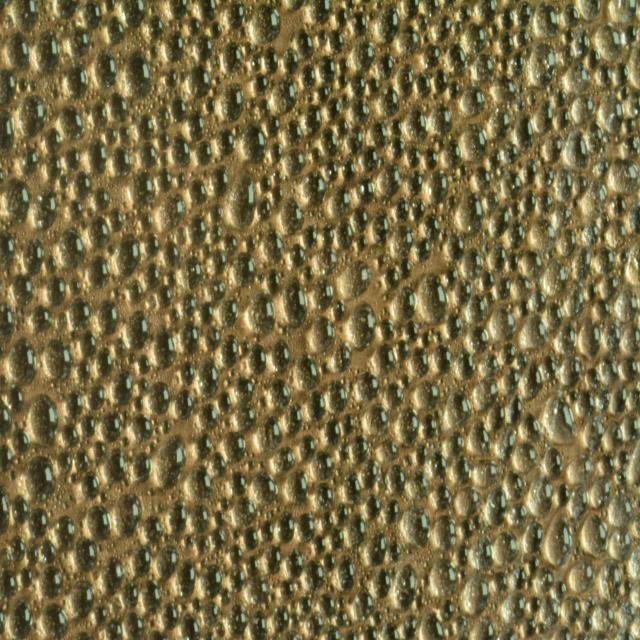dr: (542, 394, 578, 444), (27, 393, 59, 449), (227, 171, 257, 230), (154, 436, 187, 489), (6, 335, 38, 389), (417, 270, 447, 324), (33, 24, 62, 78), (42, 336, 73, 385), (26, 454, 56, 504), (401, 502, 432, 550), (124, 49, 154, 98), (17, 94, 48, 140), (454, 188, 484, 235), (337, 260, 372, 300), (113, 493, 142, 541), (246, 291, 276, 337), (428, 557, 459, 601), (546, 516, 572, 568), (282, 278, 309, 328), (607, 156, 639, 198), (580, 512, 608, 560), (57, 228, 88, 271), (4, 178, 32, 225), (349, 302, 375, 352), (457, 124, 489, 164), (530, 44, 558, 89), (156, 192, 187, 232), (31, 188, 59, 232), (250, 5, 281, 44), (183, 464, 214, 503), (462, 573, 490, 615), (596, 94, 624, 136), (116, 233, 142, 278), (374, 4, 401, 46), (526, 477, 553, 518), (518, 314, 547, 352), (484, 485, 509, 529), (60, 62, 88, 101), (443, 389, 471, 428), (241, 124, 268, 164), (456, 83, 486, 119), (532, 1, 559, 41), (6, 29, 32, 70), (598, 562, 624, 603), (41, 602, 69, 640), (542, 259, 569, 298), (564, 129, 589, 171), (564, 62, 593, 98), (70, 580, 96, 620), (279, 197, 305, 237), (295, 352, 321, 392), (492, 532, 520, 569), (219, 82, 244, 123), (394, 566, 417, 610), (94, 48, 118, 90), (152, 328, 176, 370), (489, 306, 517, 342), (257, 412, 282, 452), (311, 315, 336, 355), (596, 20, 621, 60), (129, 170, 156, 207), (59, 103, 85, 141), (284, 468, 310, 506), (377, 161, 403, 199), (100, 556, 125, 595), (391, 288, 418, 324), (529, 218, 556, 254), (579, 317, 602, 359), (252, 470, 278, 507), (608, 493, 634, 530), (433, 514, 457, 554), (362, 406, 390, 440), (231, 251, 256, 289), (10, 598, 33, 639), (86, 505, 112, 541), (302, 169, 326, 208), (347, 40, 376, 72), (567, 562, 596, 594), (562, 62, 590, 95), (12, 0, 39, 34), (472, 378, 499, 412), (53, 514, 77, 552), (156, 544, 180, 582), (364, 529, 388, 567), (426, 168, 450, 206), (519, 365, 543, 403), (406, 103, 428, 144), (73, 536, 98, 572), (467, 421, 492, 457), (453, 484, 481, 516), (566, 453, 594, 485), (499, 591, 526, 624), (110, 369, 134, 406), (352, 586, 376, 623), (531, 98, 555, 135), (583, 180, 607, 217), (198, 358, 220, 398), (468, 537, 493, 572), (125, 312, 148, 350), (472, 458, 501, 488), (522, 520, 546, 556), (96, 299, 119, 336), (200, 563, 223, 600), (559, 352, 582, 389), (87, 254, 111, 289), (398, 408, 419, 448), (490, 75, 518, 105), (539, 592, 560, 632), (418, 609, 445, 640), (275, 76, 297, 114), (66, 26, 92, 58), (512, 441, 538, 473), (571, 95, 597, 127), (148, 380, 171, 416), (329, 184, 352, 220), (415, 379, 440, 412), (178, 558, 198, 599), (188, 65, 212, 99), (393, 287, 417, 321), (428, 103, 452, 137), (262, 229, 284, 266), (494, 426, 516, 463), (616, 288, 638, 325), (105, 449, 128, 484), (282, 401, 305, 436), (487, 107, 510, 142), (187, 503, 212, 535), (310, 451, 335, 483), (573, 244, 593, 284), (609, 532, 634, 564), (554, 322, 578, 355), (88, 215, 111, 249), (27, 507, 50, 541), (583, 418, 606, 452), (302, 0, 332, 26), (338, 554, 357, 595), (23, 238, 44, 275), (327, 379, 348, 416), (465, 326, 490, 357), (40, 565, 64, 597), (142, 578, 162, 616), (391, 225, 414, 258), (371, 212, 392, 248), (70, 297, 92, 331), (100, 410, 122, 444), (181, 256, 203, 290), (228, 604, 250, 638), (385, 462, 407, 496), (292, 25, 314, 59), (518, 412, 542, 443), (459, 247, 483, 278), (520, 248, 544, 279), (225, 431, 248, 463), (311, 280, 334, 312), (408, 468, 431, 500), (131, 544, 152, 579), (271, 338, 292, 373), (446, 42, 467, 77), (314, 248, 340, 276), (222, 41, 244, 74), (358, 369, 380, 402), (594, 245, 616, 278), (172, 132, 192, 168), (397, 24, 421, 54), (515, 113, 533, 153), (596, 356, 620, 386), (304, 558, 325, 592), (503, 468, 524, 502), (269, 380, 292, 411), (465, 293, 488, 324), (12, 275, 34, 307), (132, 412, 154, 444), (464, 22, 486, 54), (560, 594, 582, 626), (348, 512, 367, 549), (88, 139, 108, 174), (307, 389, 327, 424), (122, 0, 146, 29), (233, 404, 257, 433), (46, 275, 67, 308), (431, 343, 452, 376), (619, 326, 640, 359), (313, 483, 336, 513), (471, 52, 494, 82), (607, 0, 637, 23), (555, 165, 573, 203), (108, 91, 130, 122), (142, 514, 164, 545), (234, 496, 256, 527), (451, 455, 473, 486), (511, 274, 533, 305), (296, 512, 316, 546), (220, 334, 240, 368), (187, 214, 208, 246), (502, 170, 523, 202), (586, 120, 604, 157), (610, 381, 628, 418), (169, 501, 188, 536), (264, 541, 283, 576), (283, 118, 305, 148), (380, 84, 400, 117), (440, 139, 462, 169), (594, 604, 616, 634), (543, 446, 563, 479), (376, 344, 397, 375), (344, 470, 362, 506), (181, 320, 200, 354), (333, 342, 353, 374), (456, 347, 476, 379), (618, 599, 638, 631), (124, 611, 146, 640), (199, 402, 220, 432), (234, 376, 255, 406), (543, 134, 564, 164), (112, 146, 131, 179), (221, 295, 240, 328), (604, 421, 623, 454), (500, 363, 519, 396), (0, 232, 16, 271), (469, 616, 495, 640), (283, 149, 306, 176), (166, 31, 186, 62), (360, 144, 380, 175), (320, 127, 340, 158), (31, 305, 53, 333), (215, 128, 237, 156), (277, 510, 295, 544), (346, 123, 364, 157), (397, 59, 415, 93), (249, 608, 268, 640), (248, 344, 267, 376), (351, 433, 370, 465), (19, 146, 39, 176), (134, 452, 154, 482), (360, 460, 380, 490), (385, 381, 405, 411), (410, 347, 430, 377), (1, 110, 14, 156), (211, 165, 229, 198), (286, 548, 304, 581), (82, 0, 101, 31), (105, 15, 124, 46), (81, 471, 100, 502), (194, 34, 215, 62), (137, 141, 158, 169), (188, 178, 209, 206), (72, 171, 92, 200), (175, 391, 195, 420), (318, 54, 338, 83), (536, 567, 556, 596), (507, 218, 525, 250), (541, 352, 559, 384), (478, 354, 500, 380), (66, 391, 85, 421), (372, 569, 391, 599), (577, 389, 596, 419), (351, 98, 372, 125), (628, 44, 640, 91), (10, 428, 30, 456), (430, 450, 450, 478), (422, 42, 442, 70), (488, 244, 508, 272), (620, 134, 640, 162), (96, 348, 114, 379), (371, 119, 390, 148), (0, 482, 10, 537), (180, 614, 201, 640), (12, 493, 29, 525), (162, 600, 179, 632), (188, 110, 205, 142), (226, 2, 246, 29), (1, 70, 16, 106), (272, 604, 290, 634), (336, 220, 354, 250), (447, 231, 465, 261), (498, 29, 516, 59), (0, 570, 19, 598), (298, 434, 317, 462), (351, 205, 370, 233), (393, 196, 412, 224), (453, 278, 472, 306), (445, 312, 464, 340), (594, 62, 613, 90), (376, 439, 399, 462), (79, 330, 97, 359), (204, 324, 222, 353), (195, 433, 213, 462), (229, 565, 247, 594), (444, 432, 464, 458), (277, 446, 296, 473), (562, 3, 581, 30), (473, 166, 492, 193), (416, 68, 432, 100), (365, 493, 382, 523), (324, 418, 341, 448), (305, 104, 323, 132), (434, 14, 452, 42), (577, 0, 601, 21), (558, 230, 576, 258), (54, 0, 79, 20), (1, 304, 14, 342), (122, 581, 139, 610), (301, 62, 318, 91), (44, 127, 62, 154), (377, 53, 395, 80), (432, 483, 450, 510), (476, 0, 498, 22), (137, 113, 154, 141), (211, 451, 228, 479), (256, 195, 273, 223), (320, 592, 337, 620), (318, 593, 337, 618), (0, 402, 13, 438), (88, 385, 106, 411), (162, 241, 180, 267), (307, 612, 325, 638), (382, 499, 400, 525), (423, 215, 441, 241), (486, 146, 504, 172), (610, 194, 628, 220), (575, 28, 590, 59), (170, 95, 187, 122), (196, 140, 213, 167), (231, 470, 248, 497), (349, 72, 366, 99), (623, 93, 640, 120), (64, 147, 82, 172), (208, 277, 226, 302), (288, 243, 306, 268), (303, 224, 318, 254), (528, 290, 546, 315), (92, 101, 108, 129), (254, 576, 270, 604), (492, 570, 508, 598), (62, 424, 80, 448), (180, 359, 196, 386), (145, 262, 161, 289), (212, 249, 228, 276), (415, 236, 431, 263), (422, 414, 438, 441), (516, 1, 532, 28), (252, 72, 269, 97), (180, 293, 197, 318), (264, 46, 279, 74), (583, 217, 598, 245), (198, 0, 217, 22), (46, 154, 62, 180), (108, 208, 124, 234), (8, 386, 24, 412), (74, 448, 90, 474), (128, 278, 144, 304), (242, 524, 258, 550), (280, 578, 296, 604), (266, 268, 282, 294), (380, 317, 396, 343), (329, 29, 345, 55), (352, 11, 368, 37), (486, 190, 502, 216), (622, 356, 638, 382), (500, 340, 516, 366), (104, 617, 122, 640), (93, 187, 110, 211), (210, 527, 227, 551), (203, 602, 220, 626), (623, 415, 640, 439), (149, 15, 164, 42), (144, 232, 160, 257), (400, 0, 420, 20), (439, 599, 455, 624), (538, 166, 556, 188), (554, 205, 572, 227), (0, 444, 14, 472), (502, 141, 519, 164), (613, 63, 630, 86), (593, 298, 610, 321), (10, 536, 25, 562), (157, 167, 172, 193), (156, 284, 172, 308), (554, 108, 570, 132), (524, 158, 537, 187), (57, 451, 72, 476), (199, 301, 214, 326), (511, 52, 526, 77), (340, 413, 356, 436), (265, 113, 281, 136), (479, 270, 495, 293), (500, 6, 516, 29), (522, 616, 538, 639), (556, 482, 570, 508), (69, 198, 84, 222), (196, 532, 211, 556), (223, 232, 238, 256), (388, 540, 403, 564), (404, 320, 419, 344), (407, 146, 423, 168), (156, 105, 170, 130), (523, 188, 537, 213), (260, 520, 275, 543), (391, 137, 406, 160), (170, 1, 188, 20), (451, 616, 468, 636), (218, 391, 232, 415), (246, 554, 260, 578), (386, 266, 400, 290), (398, 257, 412, 281), (562, 44, 576, 68), (76, 358, 91, 380), (460, 518, 475, 540), (94, 605, 108, 628), (320, 225, 334, 248), (314, 534, 328, 557), (424, 147, 438, 170), (411, 200, 426, 221), (54, 311, 68, 333), (210, 202, 224, 224), (332, 300, 346, 322), (320, 510, 334, 532), (325, 623, 343, 640), (299, 594, 314, 614), (338, 441, 351, 464), (335, 7, 348, 30), (587, 47, 600, 70), (625, 24, 638, 47), (187, 16, 201, 37), (137, 353, 151, 374), (209, 223, 223, 244), (516, 29, 530, 50), (0, 546, 12, 570), (230, 544, 243, 566), (164, 69, 178, 89), (93, 440, 107, 460), (245, 233, 259, 253), (317, 84, 331, 104), (46, 255, 59, 276), (21, 567, 34, 588), (26, 544, 39, 565), (554, 91, 570, 108), (335, 610, 349, 629), (458, 4, 472, 23), (617, 449, 631, 468), (416, 10, 428, 32), (105, 125, 118, 145), (141, 212, 154, 232), (157, 131, 170, 151), (336, 116, 349, 136), (554, 580, 567, 600), (573, 178, 588, 195), (259, 173, 271, 194), (213, 509, 226, 528), (272, 184, 284, 204), (69, 278, 82, 296), (119, 125, 131, 144), (175, 227, 187, 246), (508, 252, 520, 271), (210, 20, 221, 40), (115, 338, 126, 358), (204, 96, 216, 114), (250, 54, 262, 72), (311, 146, 323, 164), (446, 265, 458, 283), (366, 624, 379, 640), (137, 378, 149, 395), (220, 588, 232, 605), (133, 394, 144, 412), (166, 269, 177, 287), (376, 254, 387, 272), (214, 622, 226, 638), (421, 331, 433, 347), (192, 597, 203, 614), (290, 610, 300, 628), (344, 628, 359, 640), (169, 308, 180, 324), (0, 610, 7, 634), (219, 496, 230, 511), (244, 40, 254, 56), (184, 534, 194, 550), (161, 419, 171, 434), (177, 172, 186, 188), (105, 0, 116, 13), (1, 374, 8, 394), (60, 175, 69, 190), (19, 76, 27, 92), (100, 490, 109, 504), (155, 500, 164, 514), (29, 80, 37, 92), (128, 352, 135, 365), (205, 631, 215, 640), (86, 207, 94, 217)
